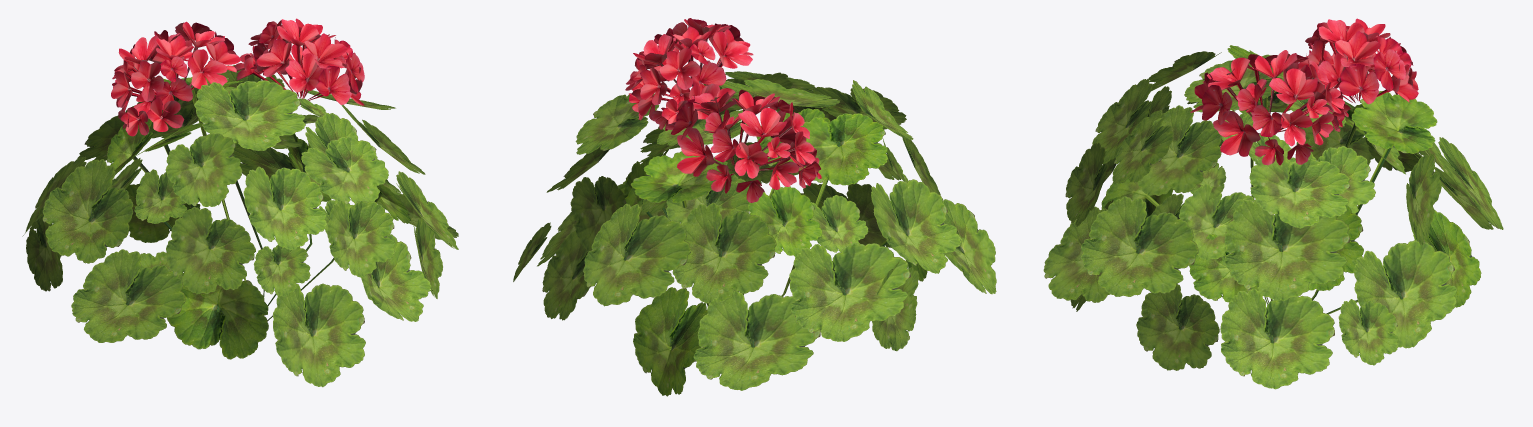
3 renders of one model, left to right at view 1: azimuth 30°, elevation 25°; view 2: azimuth 150°, elevation 25°; view 3: azimuth 270°, elevation 25°, orthographic. The views are drawn at different scales.
Visible parts, largest first — view 1: 8dd8f987; view 2: 8dd8f987; view 3: 8dd8f987.
Part boxes in pixels (x1=…): 8dd8f987: x1=22, y1=18, x2=458, y2=387; 8dd8f987: x1=513, y1=18, x2=996, y2=396; 8dd8f987: x1=1043, y1=18, x2=1503, y2=389.
Size of the model in its own units: 0.1684 by 0.1166 by 0.16.
1 material, 1 textured.
